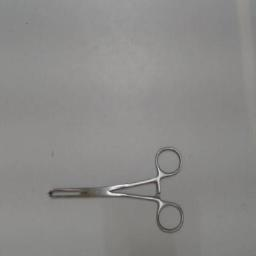Allis Tissue Forceps: (41, 140, 187, 240)
